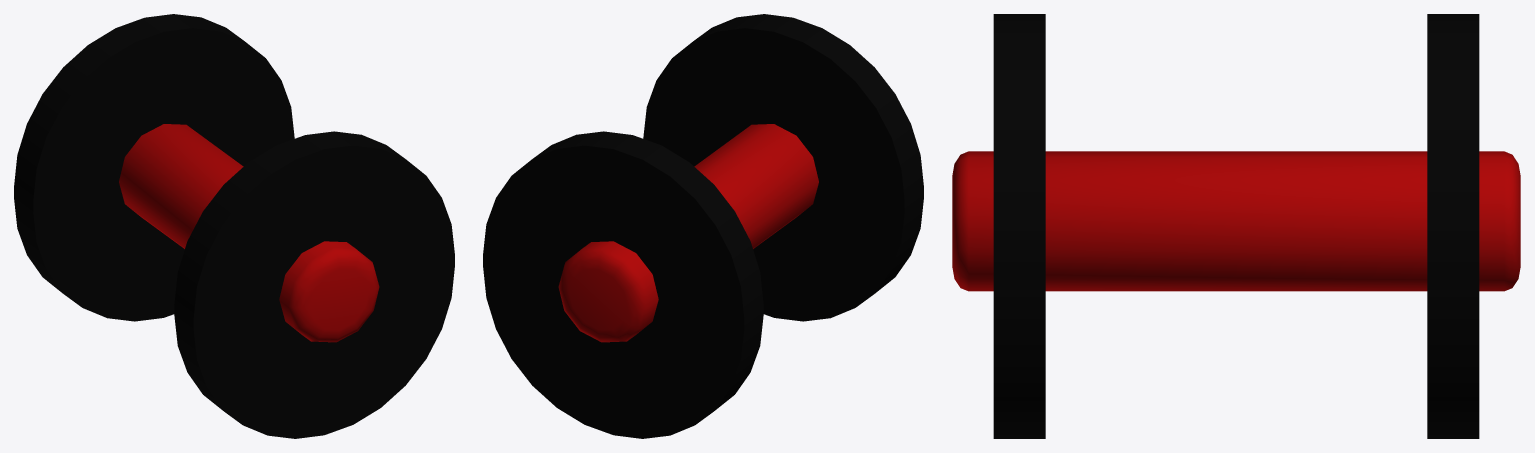
Rendered from Rotator_High.fbx.
3 renders of one model, left to right at view 1: azimuth 30°, elevation 25°; view 2: azimuth 150°, elevation 25°; view 3: azimuth 270°, elevation 25°, orthographic. The views are drawn at different scales.
Parts seen in each view (by area): view 1: Rotator_High; view 2: Rotator_High; view 3: Rotator_High.
Part boxes in pixels (<box>): Rotator_High: <box>14,14,454,438</box>; Rotator_High: <box>483,14,923,438</box>; Rotator_High: <box>952,14,1520,438</box>.
Size of the model in its own units: 0.3237 by 0.4514 by 0.3389.
